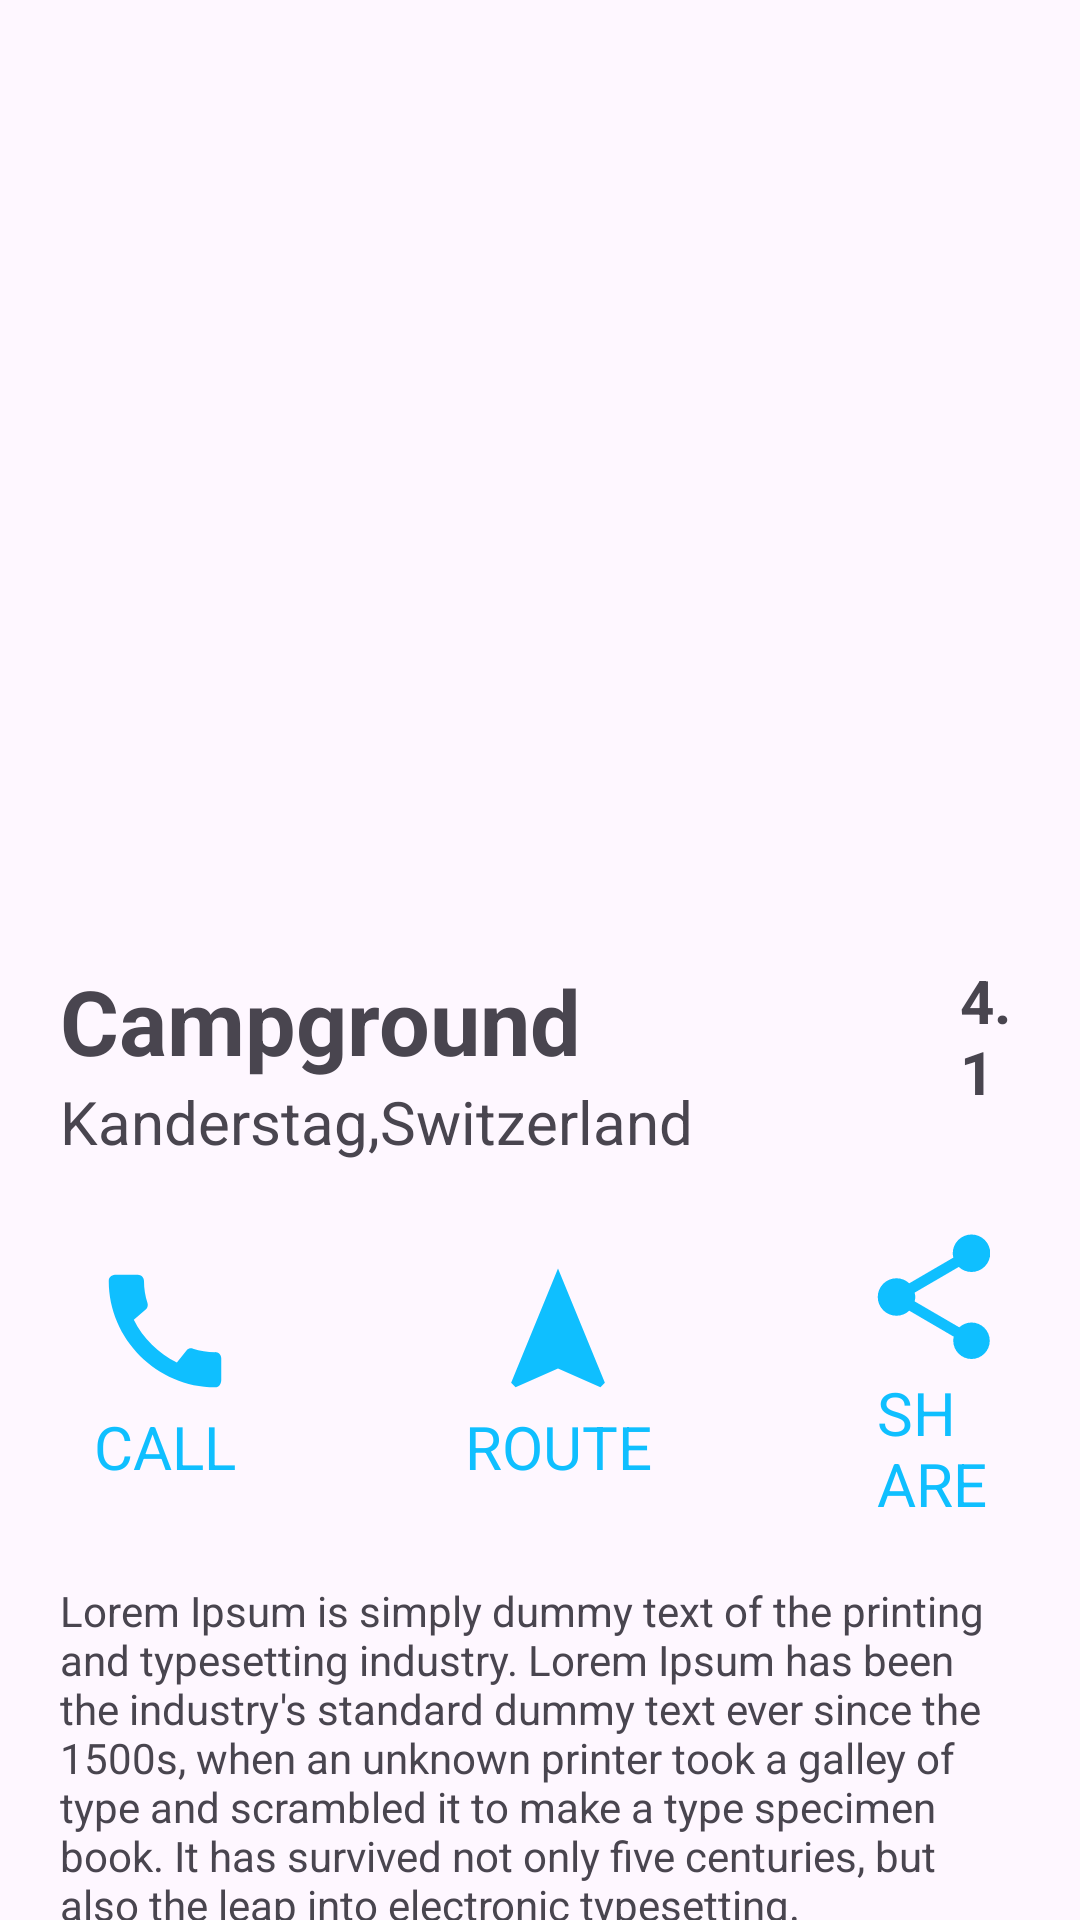

Named icons in this screenshot (1080*1920) and their bounding boxes, (x1, y1, x2, y2):
navigation: (511, 1269, 605, 1388)
